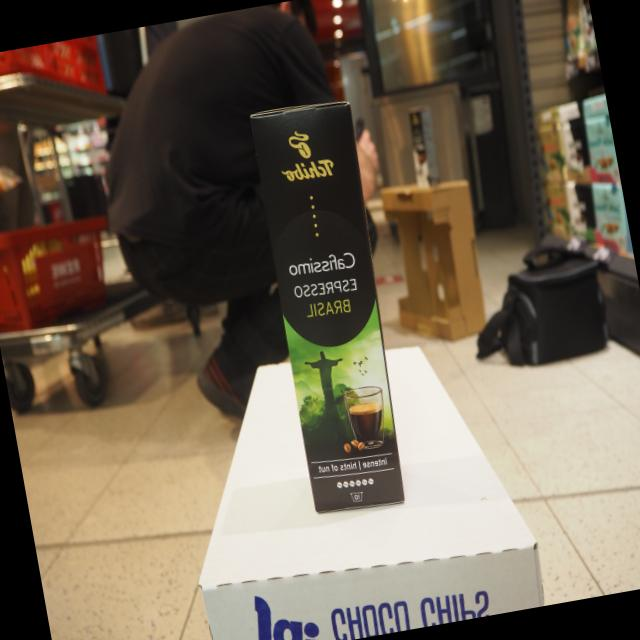Simo CC Colombia: (243, 95, 407, 518)
